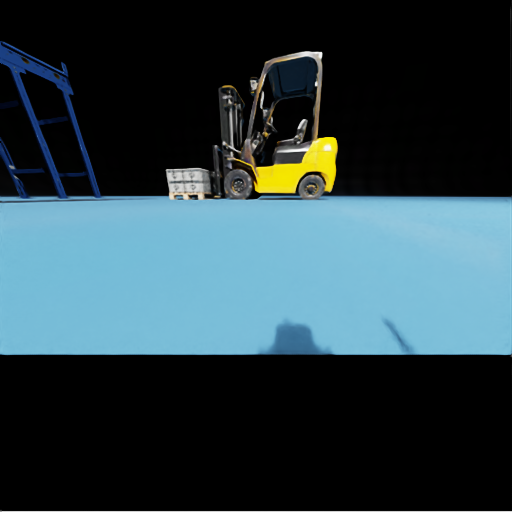transportation_area: (184, 181, 214, 192)
